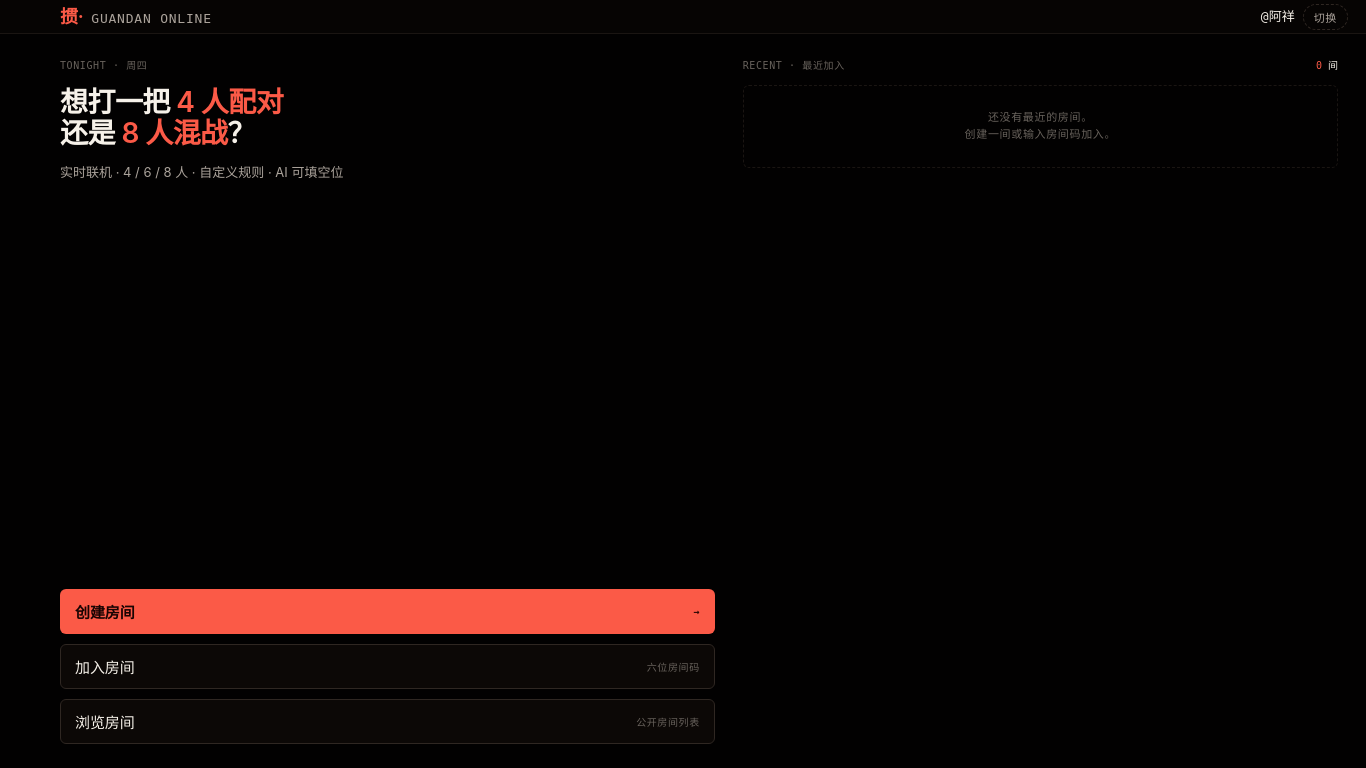
Test: Landing › opens join modal when 加入 clicked
Click the button "加入房间 六位房间码".
click(105, 668)  # box left=60, top=644, right=715, bottom=689
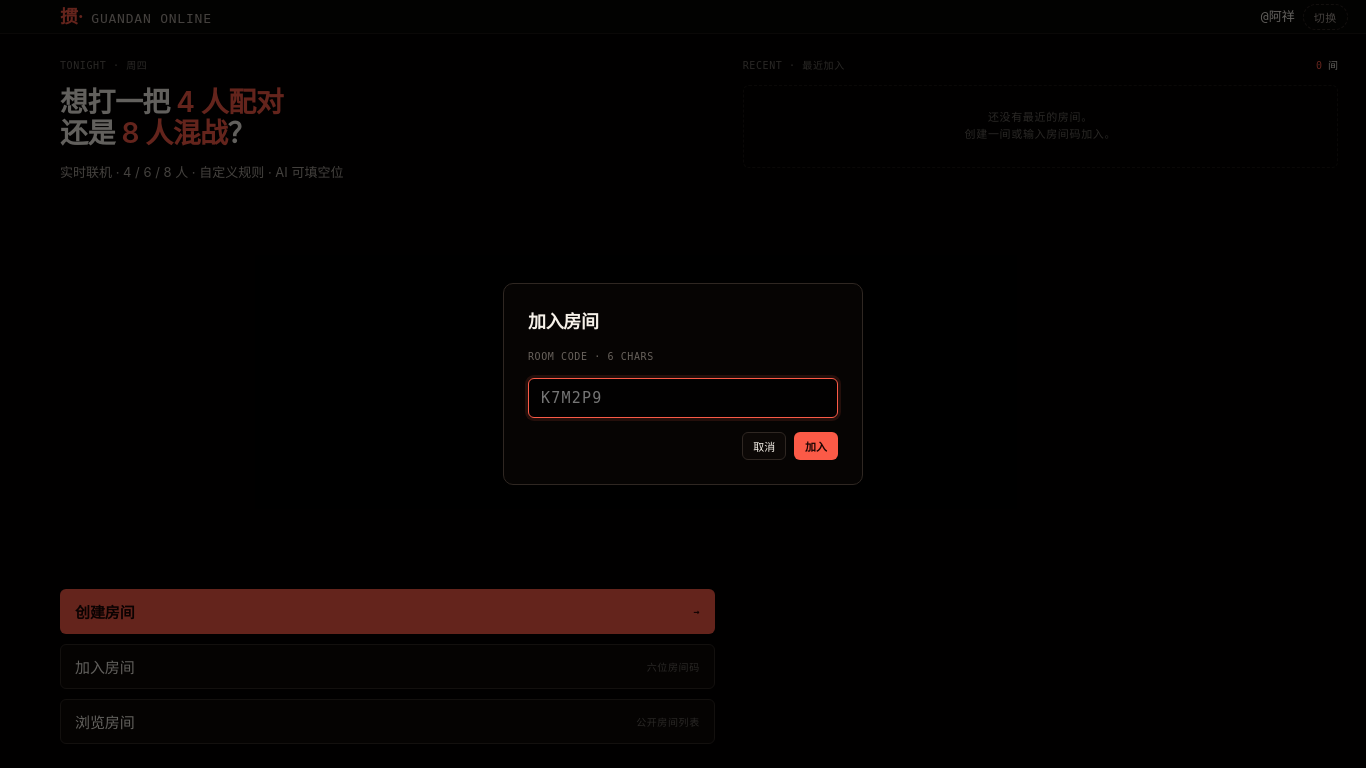
Expected: the dialog "加入房间" is shown
